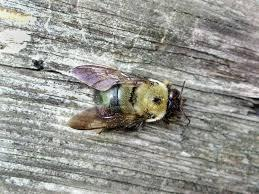Xylocopa: (68, 63, 189, 140)
